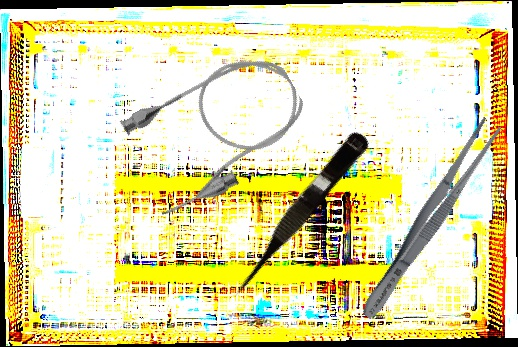Cannula: (111, 37, 323, 225)
Dressing Forceps: (353, 114, 506, 325)
Micro Scissor: (222, 125, 373, 303)
